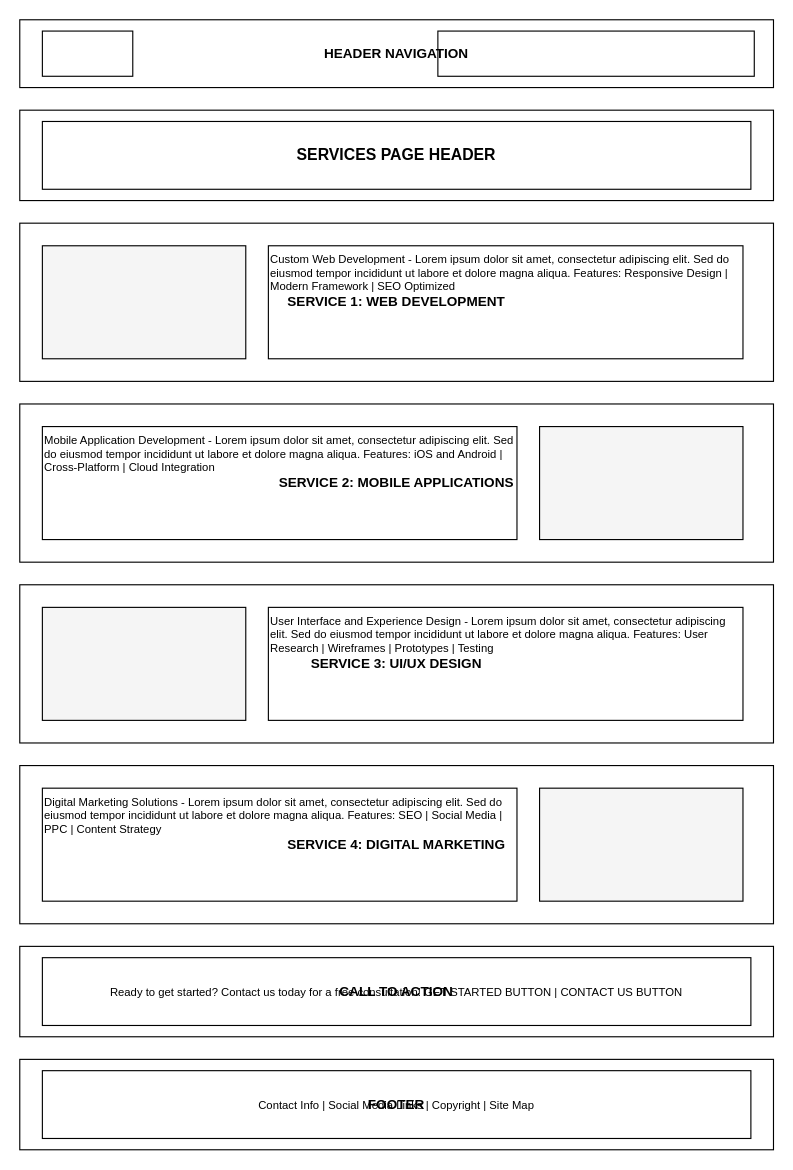
This 793x1170 diagram has some shape labels left out. Here are the shapes that lost their labels. From the top down, the centre of each, then its label:
At (87,53): "LOGO".
At (595,53): "Home | About | Services | Gallery | Contact".
At (396,154): "Our Services - Comprehensive solutions for your needs".
At (143,302): "WEB DEVELOPMENT IMAGE".
At (640,482): "MOBILE APP IMAGE".
At (143,663): "UI/UX DESIGN IMAGE".
At (640,844): "DIGITAL MARKETING IMAGE".
